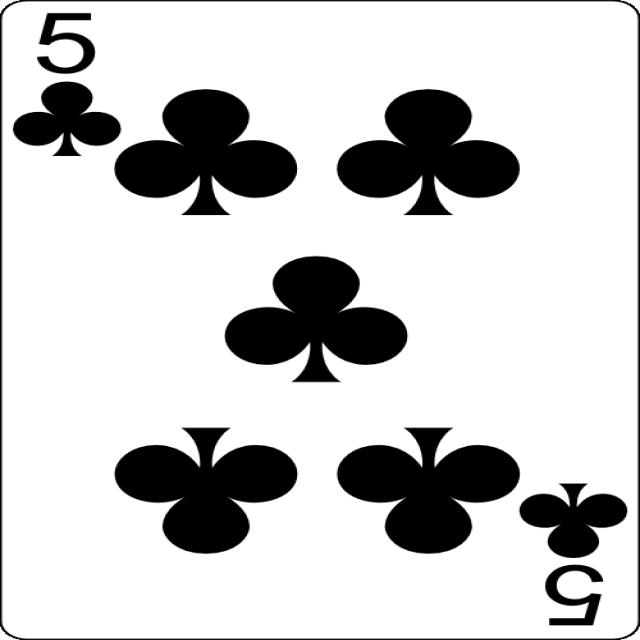Club: (336, 427, 521, 554), (114, 89, 298, 216), (224, 255, 408, 382), (114, 427, 298, 554), (335, 89, 520, 215), (518, 482, 629, 558), (12, 81, 121, 157)
